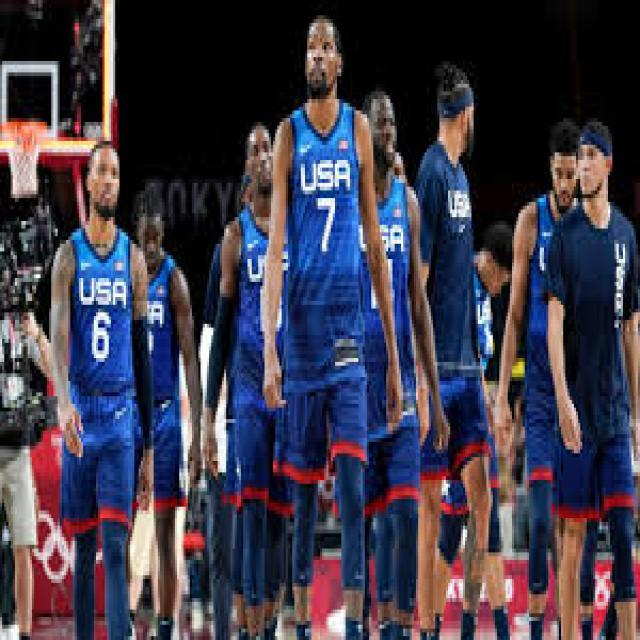rim: (0, 118, 45, 149)
